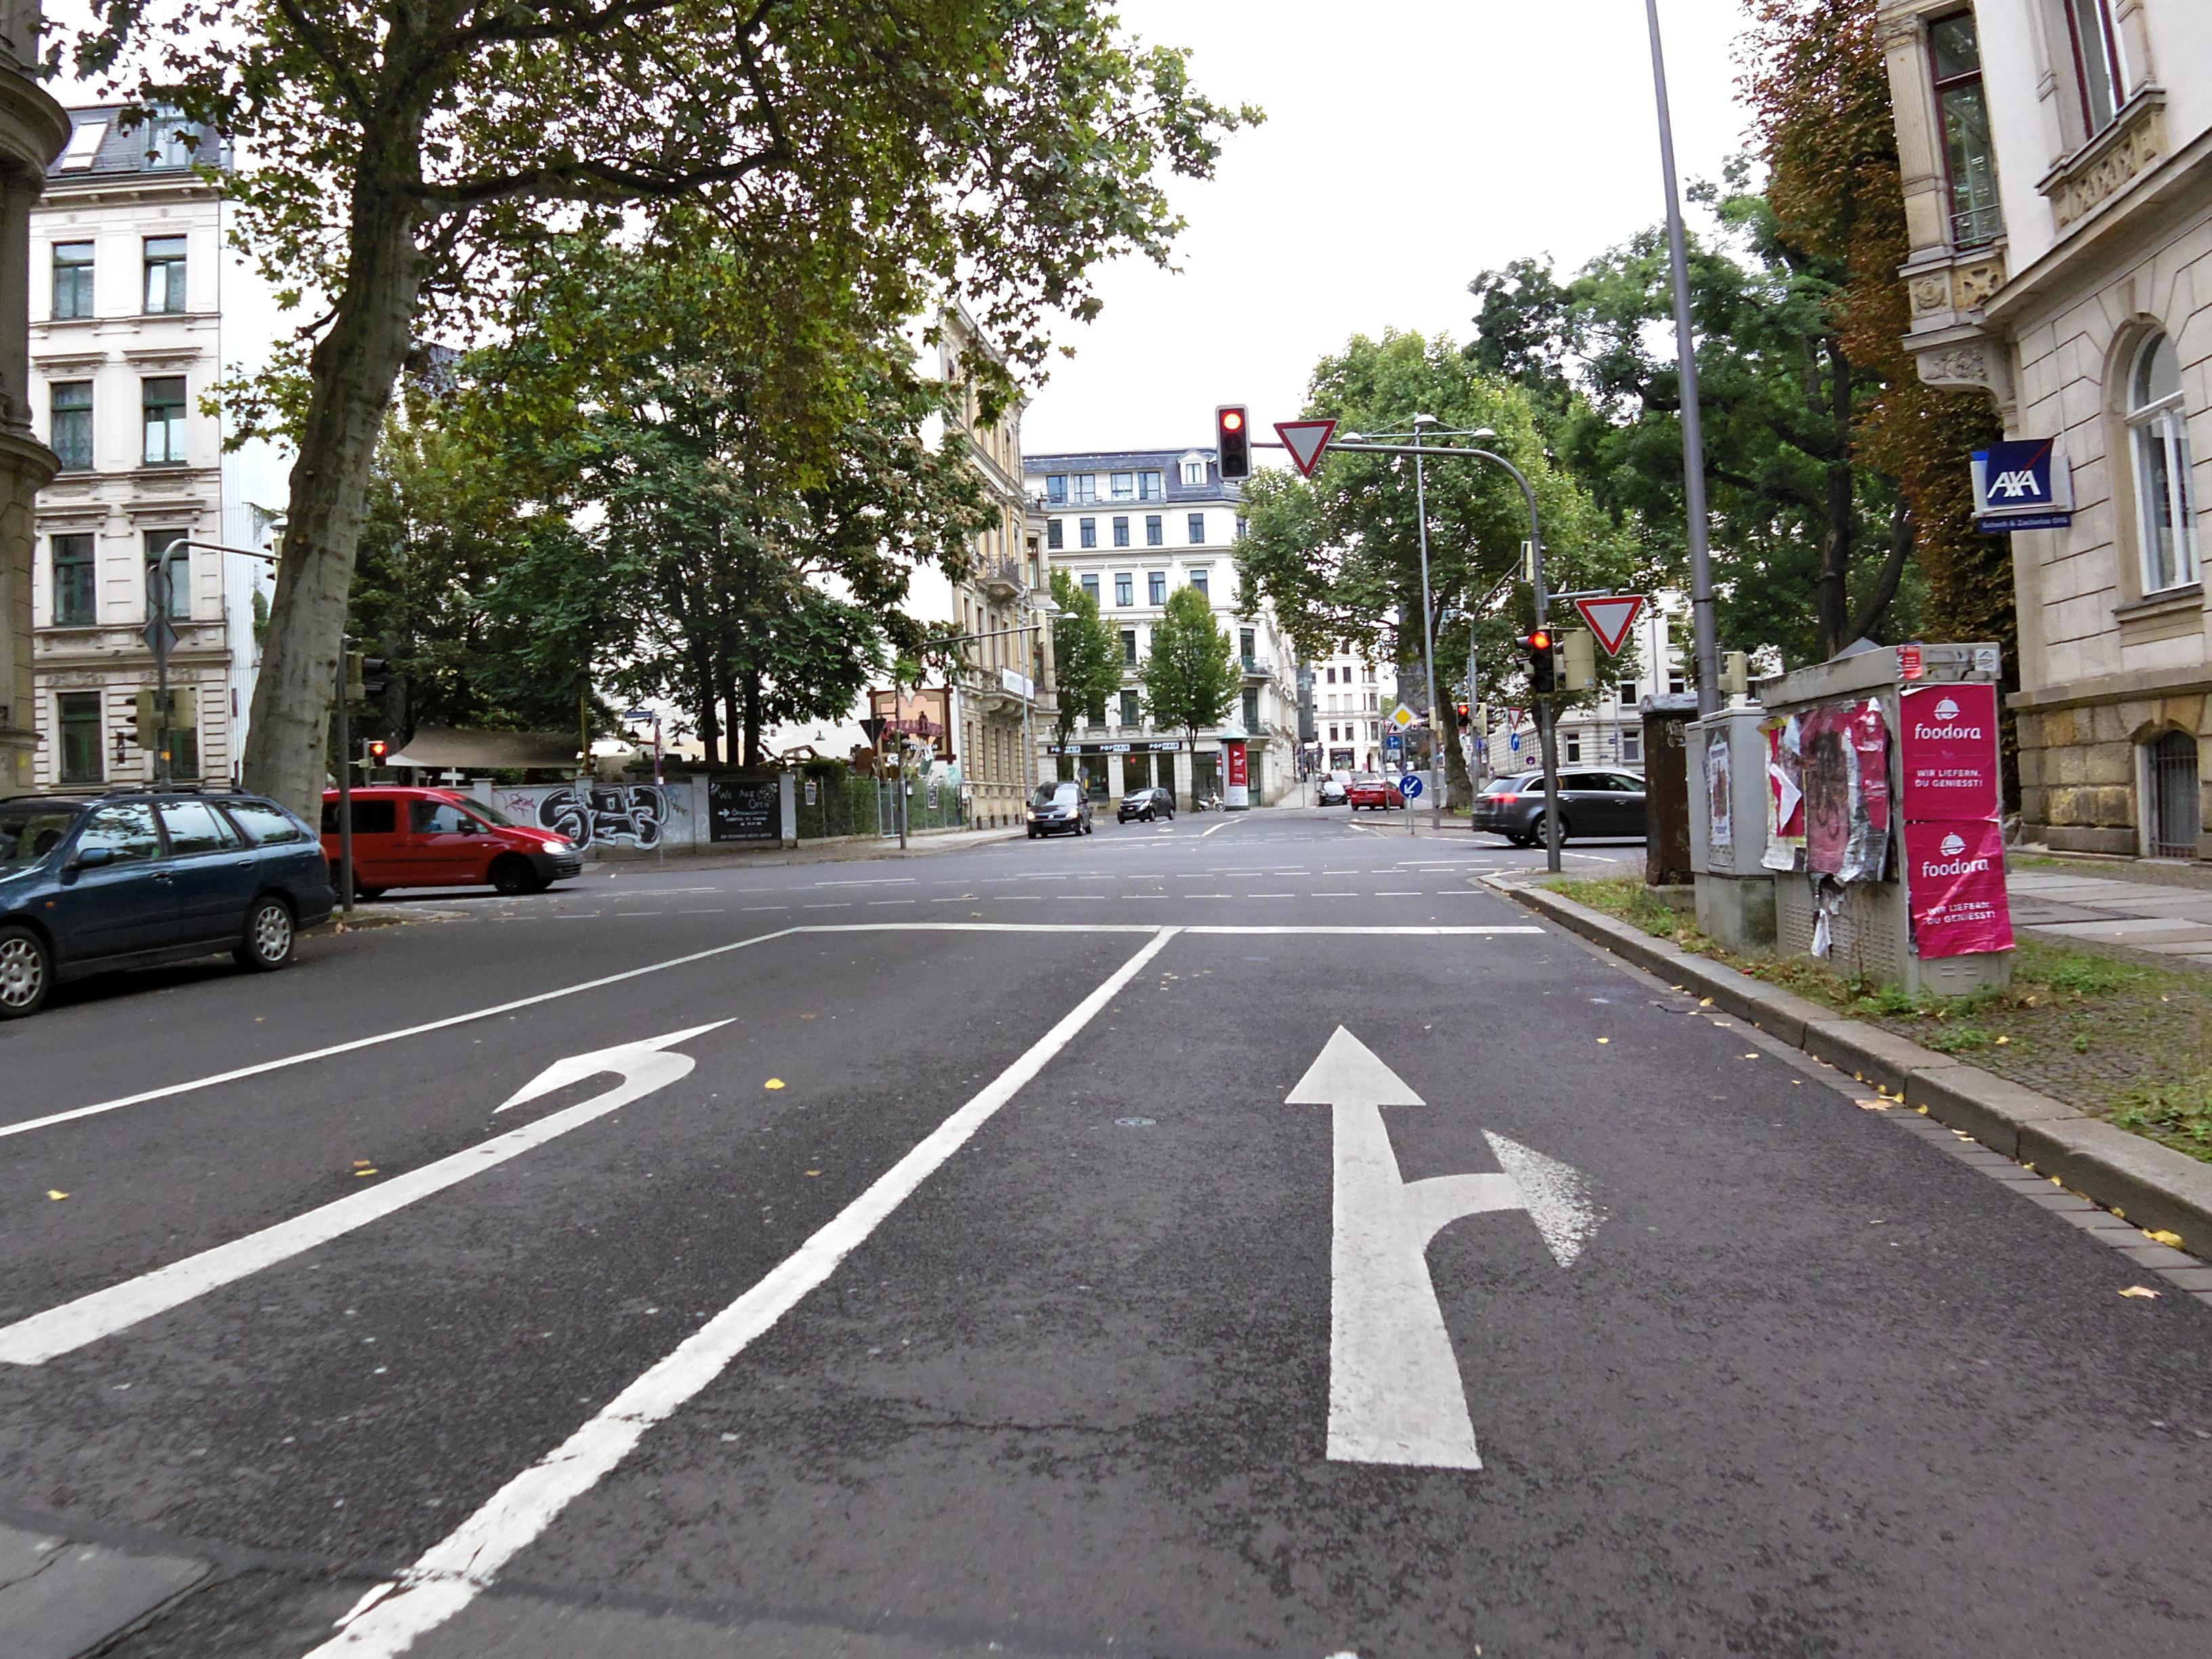vinyl banner: (1900, 680, 2040, 985), (1728, 701, 1900, 871)
